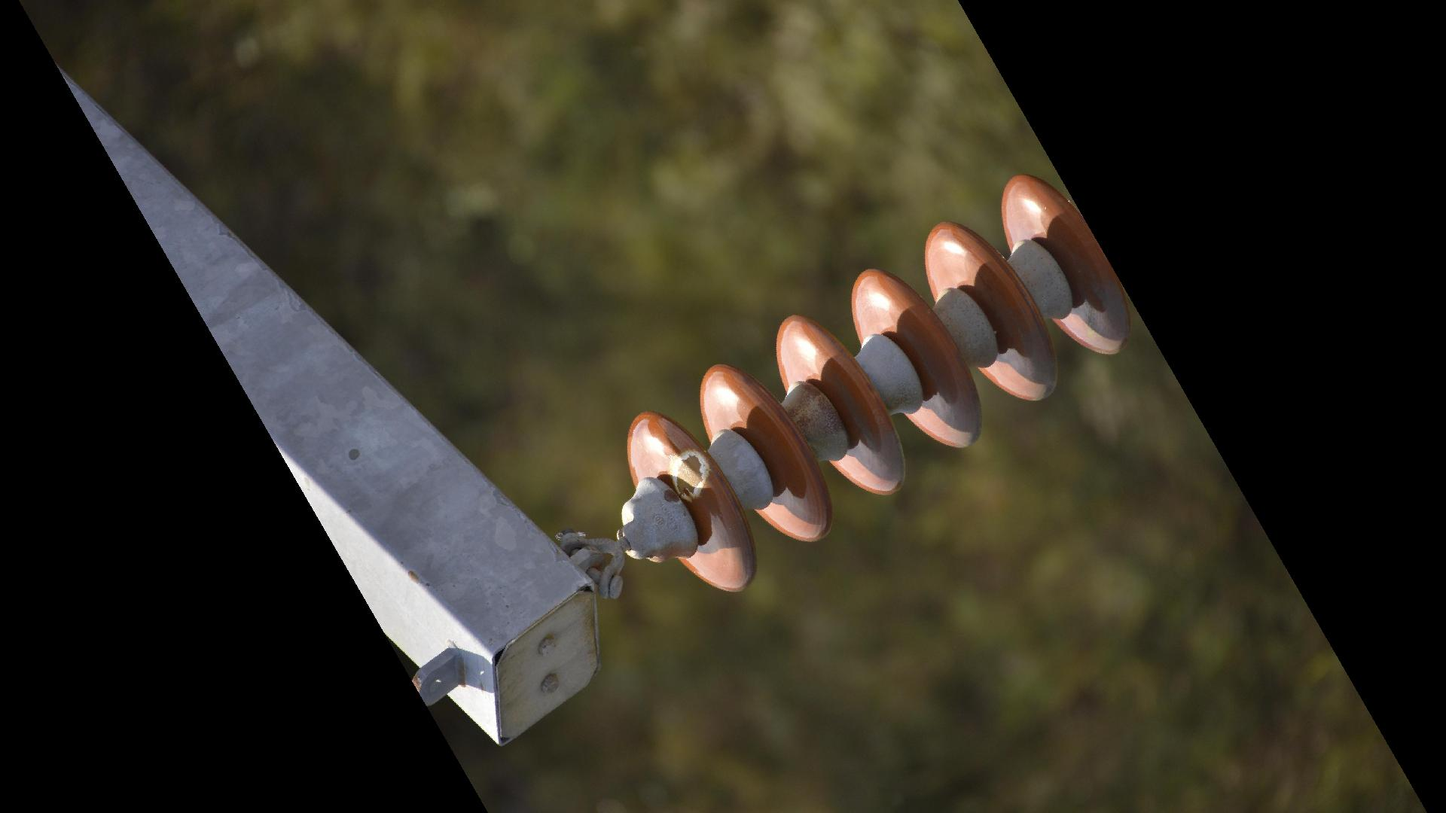insulator: (620, 168, 1139, 598)
insulator_flashover: (667, 446, 713, 501)
